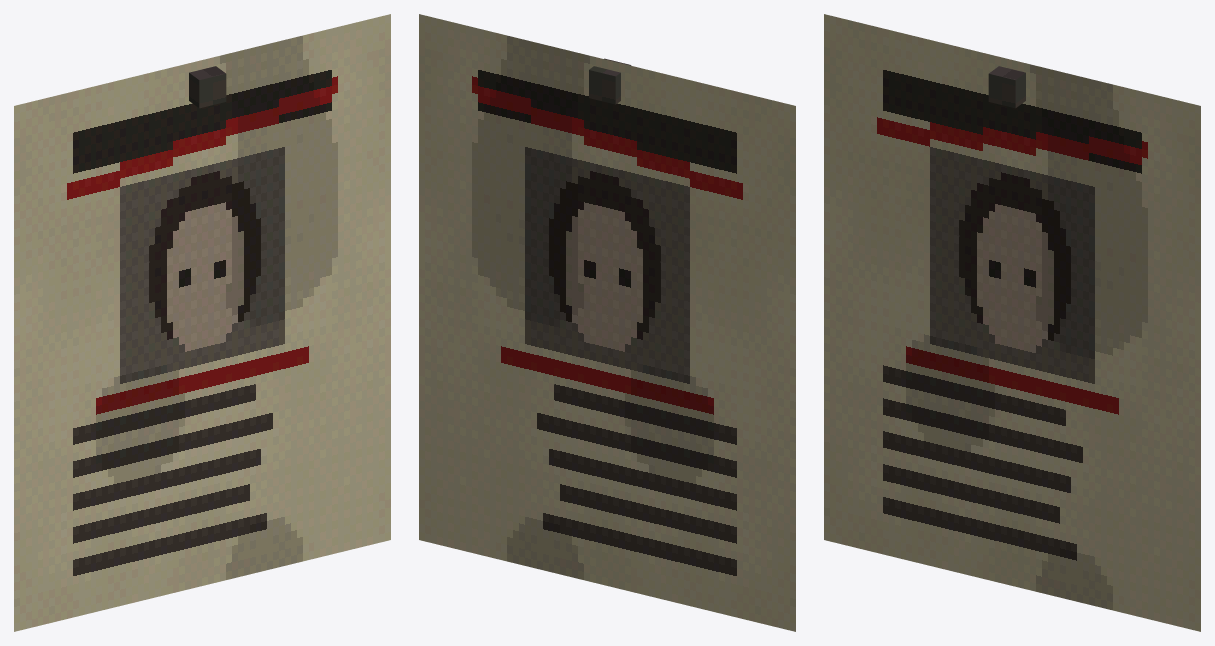
Rendered from cartel_busca.obj.
3 views of the same model, side by side, from view 1: azimuth 30°, elevation 25°; view 2: azimuth 150°, elevation 25°; view 3: azimuth 330°, elevation 25° (orthographic).
Parts seen in each view (by area): view 1: cartel_busca; view 2: cartel_busca; view 3: cartel_busca.
Boxes of the visible parts, x1=… form: cartel_busca: x1=14, y1=14, x2=390, y2=631; cartel_busca: x1=419, y1=14, x2=795, y2=631; cartel_busca: x1=824, y1=14, x2=1200, y2=631.
Bounding box in the file's own units: 0.42 × 0.56 × 0.03.
2 materials, 2 textured.
